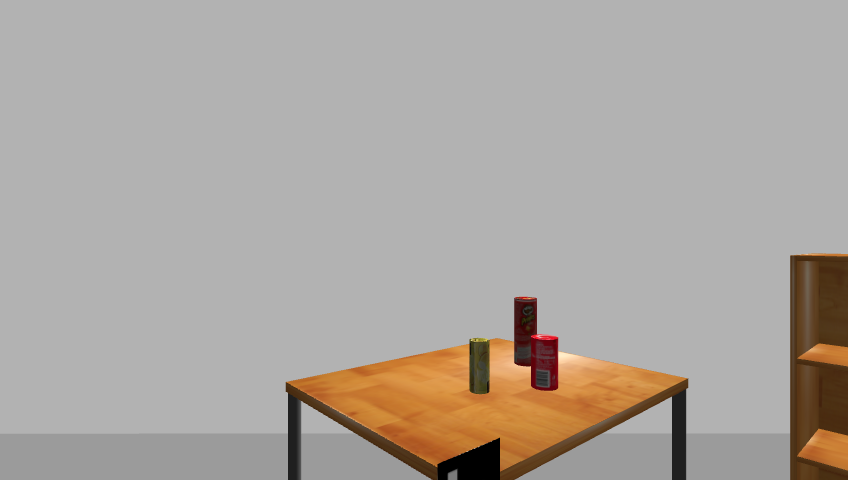aruco marker: (432, 438, 505, 480)
biscuits pack: (469, 337, 492, 395)
bookshelf: (785, 253, 848, 480)
coke can: (531, 335, 560, 391)
dinner table: (277, 339, 697, 479)
pringles can: (510, 295, 539, 368)
